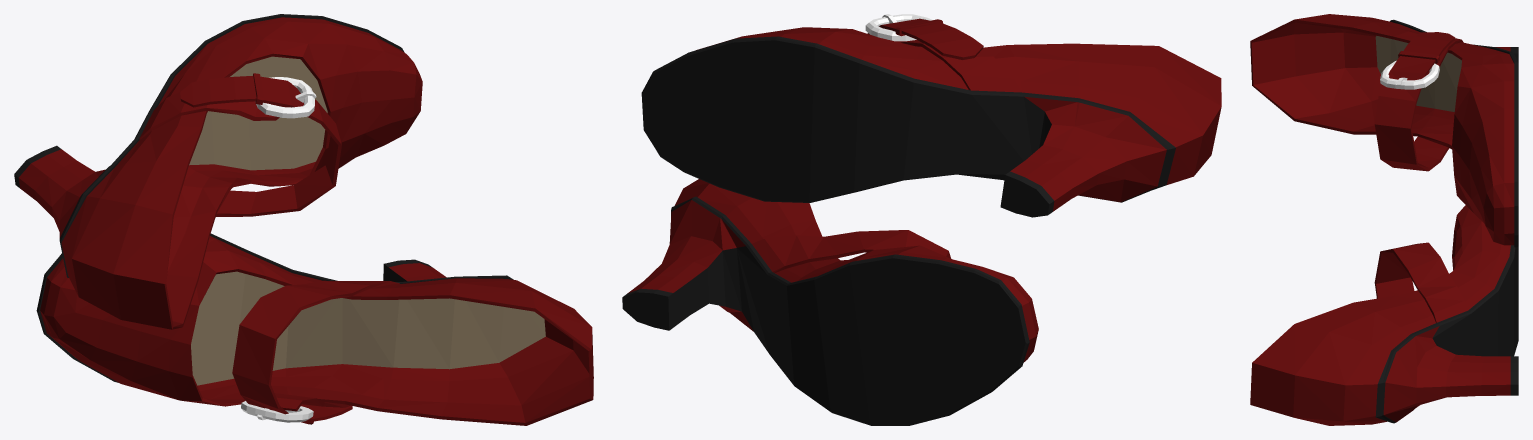
3 renders of one model, left to right at view 1: azimuth 30°, elevation 25°; view 2: azimuth 150°, elevation 25°; view 3: azimuth 270°, elevation 25°, orthographic. The views are drawn at different scales.
Visible parts, largest first — view 1: red high heeled shoes; view 2: red high heeled shoes; view 3: red high heeled shoes.
Boxes of the visible parts, x1,y1,x2,y2 form: red high heeled shoes: (14,14,593,425); red high heeled shoes: (622,14,1221,425); red high heeled shoes: (1250,14,1518,425).
Bounding box in the file's own units: 9.72 × 6.62 × 5.29.
